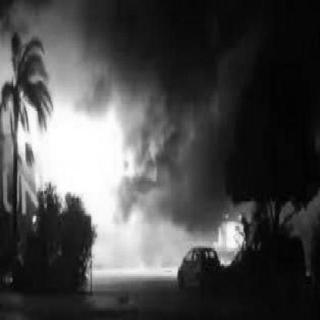Fire: (20, 86, 136, 224), (210, 200, 242, 258)
